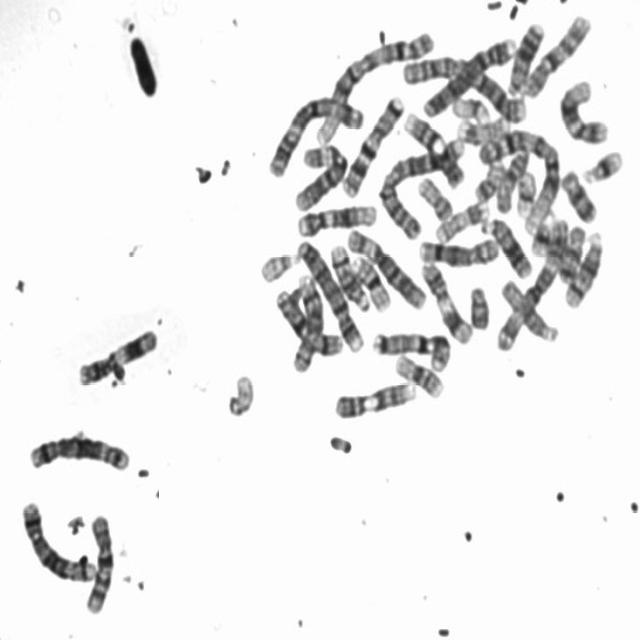A1: (309, 21, 438, 148), (472, 123, 564, 230)
A2: (397, 51, 532, 126), (377, 130, 468, 241)
A3: (491, 209, 572, 352), (263, 89, 367, 178)
B4: (290, 232, 366, 354), (417, 31, 519, 120)
B5: (15, 492, 99, 584), (23, 426, 132, 474)
C10: (518, 6, 594, 100), (80, 505, 118, 617)
C11: (72, 320, 162, 388), (416, 254, 476, 346)
C12: (555, 71, 613, 146), (292, 196, 380, 237)
C6: (343, 221, 429, 311), (291, 136, 351, 212)
C7: (338, 88, 408, 198), (368, 324, 454, 373)
C8: (287, 272, 326, 376), (415, 230, 503, 268)
C9: (399, 104, 467, 190), (330, 373, 418, 421)
D13: (478, 209, 535, 280), (502, 14, 547, 98)
D14: (560, 223, 606, 309), (326, 237, 372, 313)
D15: (496, 270, 563, 345), (492, 139, 532, 214)
E16: (348, 246, 395, 313), (390, 346, 447, 399)
E17: (432, 194, 492, 244), (454, 110, 512, 146)
E18: (557, 161, 602, 224), (556, 218, 590, 284)
F19: (448, 88, 493, 124), (512, 163, 540, 219)
F20: (412, 170, 456, 223), (470, 154, 508, 203)
G21: (579, 142, 627, 185), (526, 215, 554, 257)
G22: (222, 366, 258, 418), (256, 245, 300, 283)
X: (272, 281, 346, 358)
Y: (466, 278, 492, 330)
